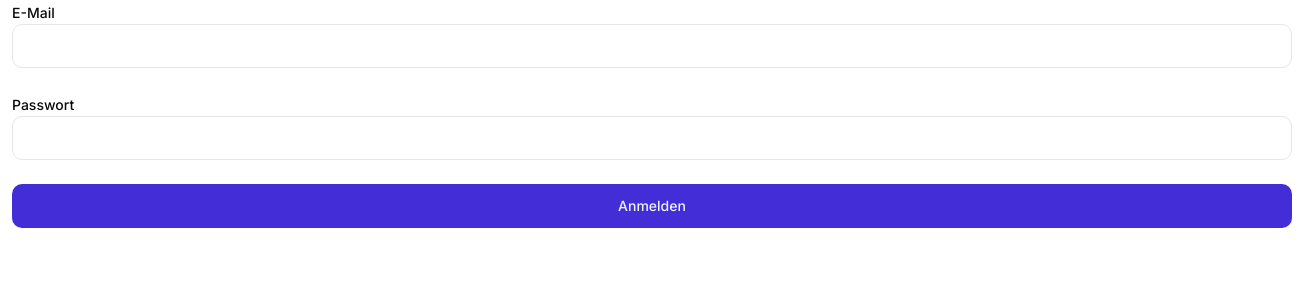
Test: zeigt abgewiesene Zugangsdaten ohne Navigation
Type "USER@Example.test" into the field labelled "E-Mail". click: (652, 46)
box: [12,24,1292,68]
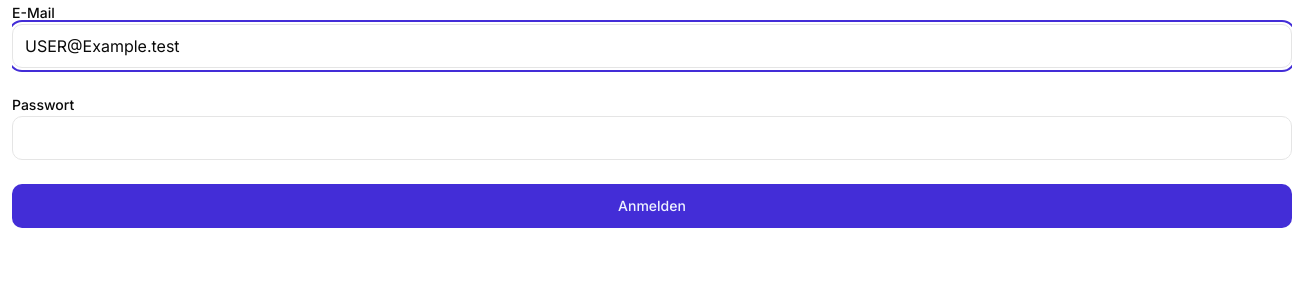
Type " Passwort mit Leerzeichen " into the password field labelled "Passwort". click: (652, 138)
box: [12,116,1292,160]
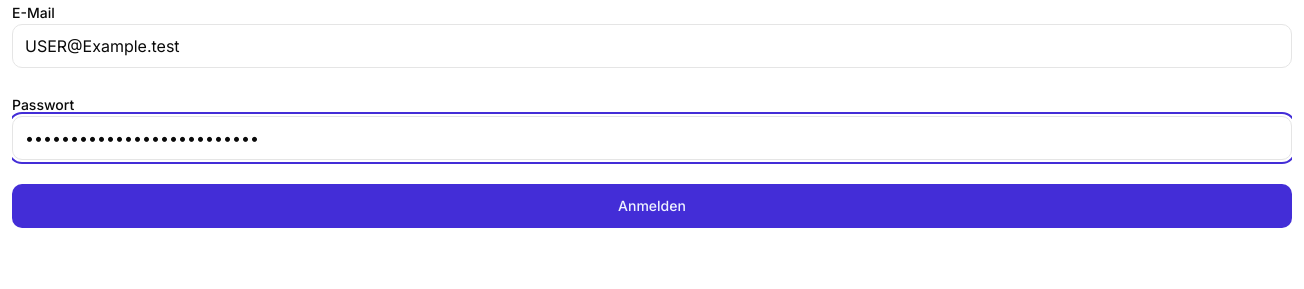
Click the button "Anmelden". click: click(652, 206)
box: [12,184,1292,228]
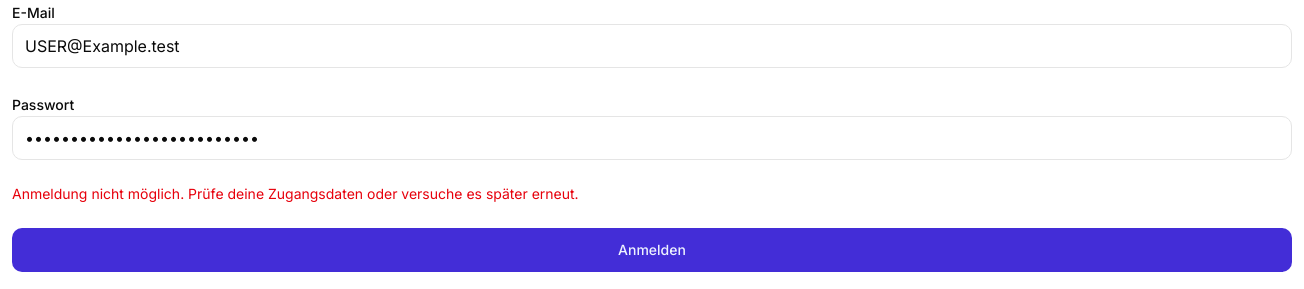
Expected: the button "Anmelden" is enabled, [12,228,1292,272]
Expected: the text "Anmeldung nicht möglich. Prüfe deine Zugangsdaten oder versuche es später erneut." is shown, [12,185,579,202]
